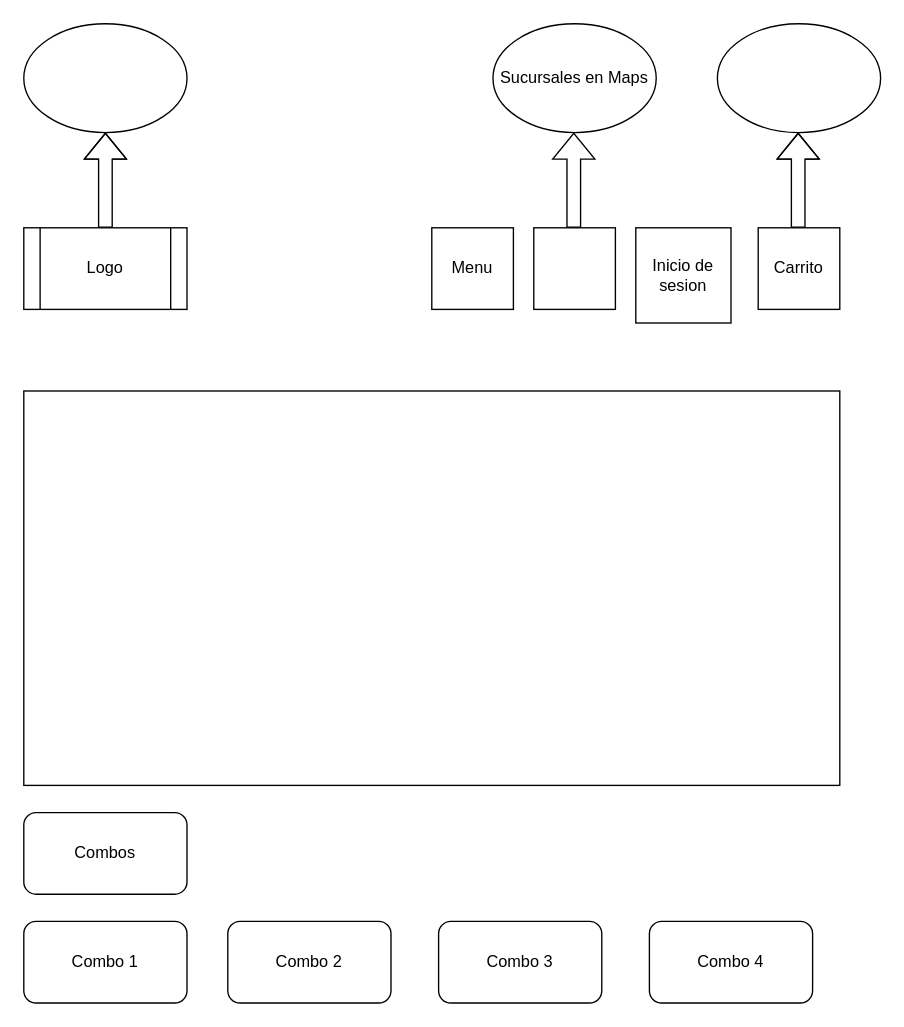
Image size: 904x1027. Some labels were removed from this diagram. Each missing label, with the box of its shape:
Carrusel (Promociones actuales / Imagenes): (22, 390, 840, 785)
Resumen de Pedidos: (716, 22, 881, 133)
Sucursales: (532, 226, 615, 309)
Vuelta a inicio: (22, 22, 187, 133)
